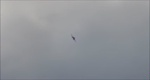maybay_muctieu: (71, 34, 78, 45)
